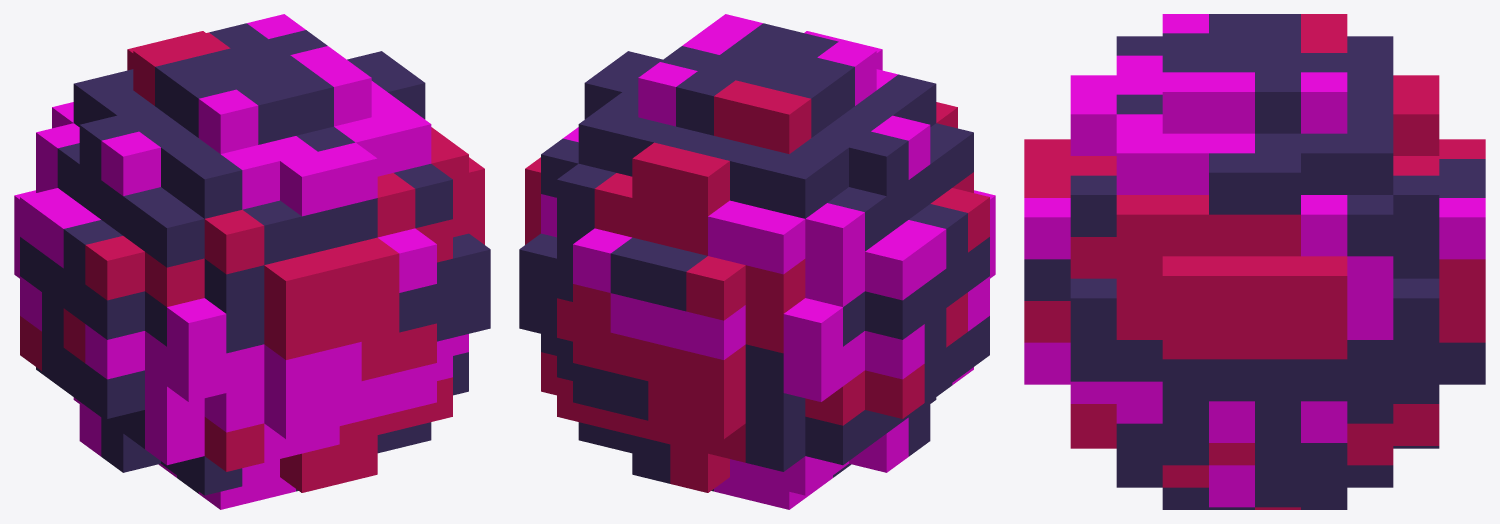
The model's file is planetas-10-rosas 1.obj.
3 renders of one model, left to right at view 1: azimuth 30°, elevation 25°; view 2: azimuth 150°, elevation 25°; view 3: azimuth 270°, elevation 25°, orthographic. The views are drawn at different scales.
Bounding box in the file's own units: 1 × 1 × 1.
1 material, 1 textured.
